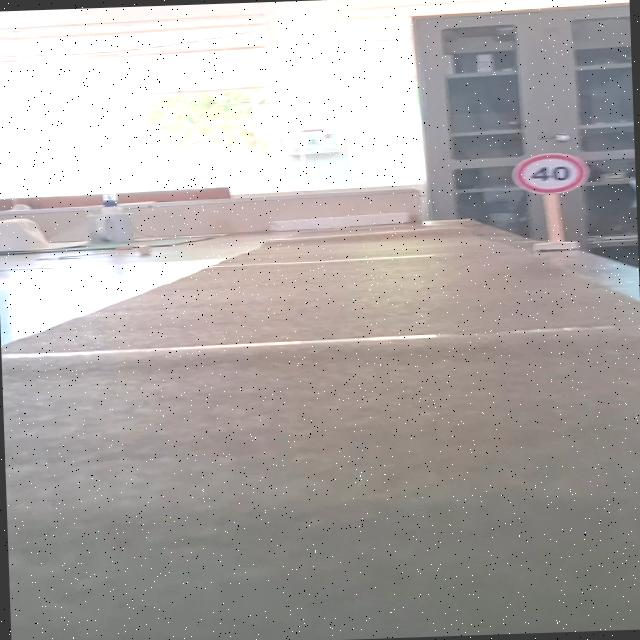Speed40: (507, 150, 593, 198)
